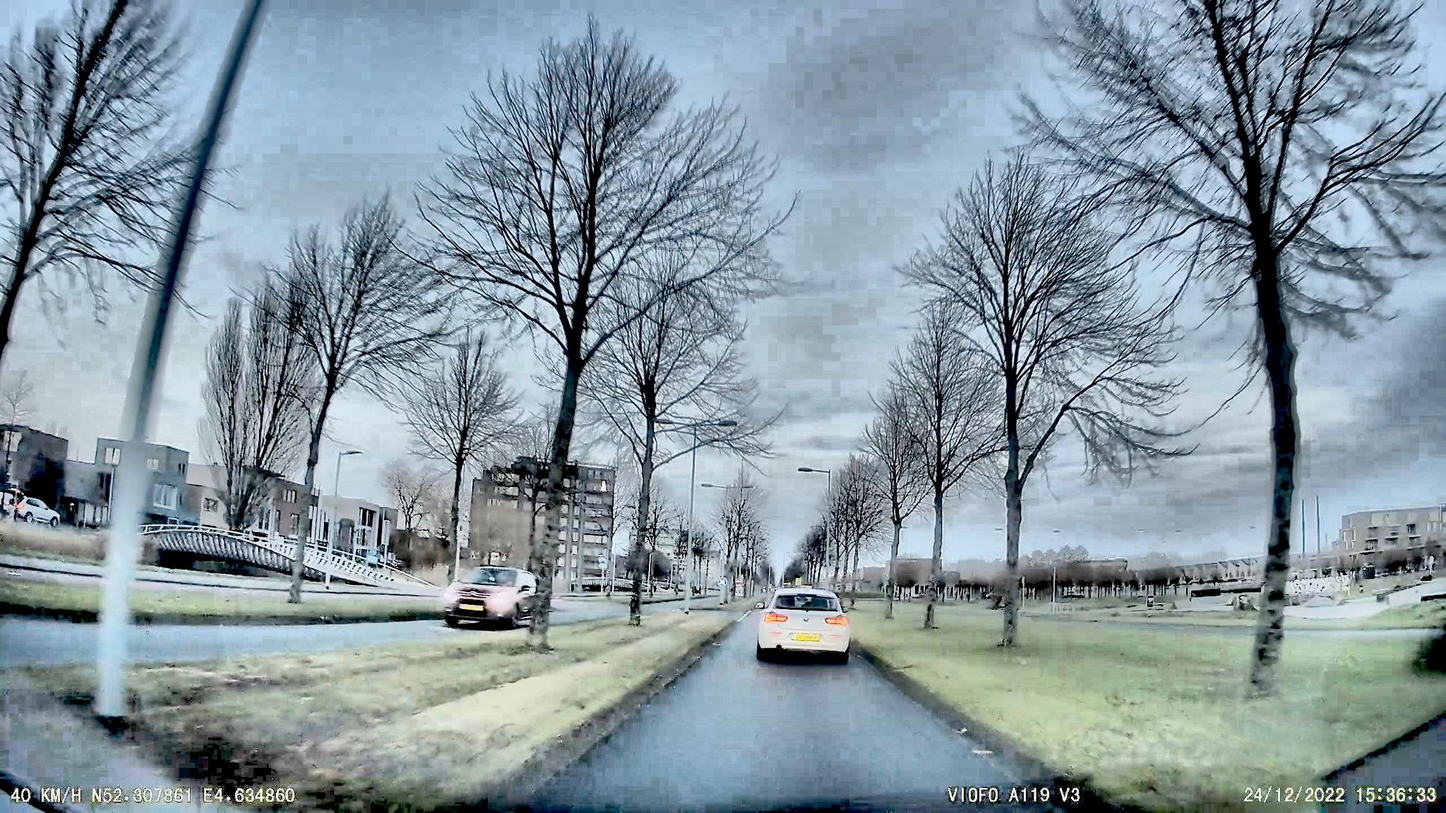Roads: (518, 619, 1083, 813)
